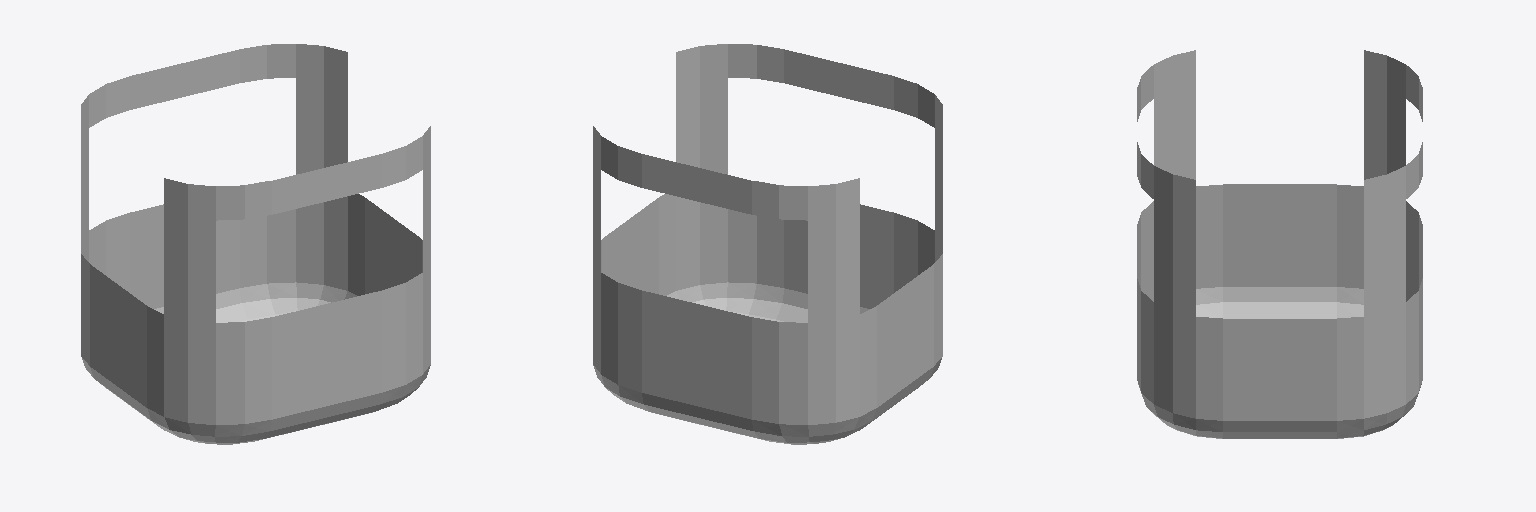
File: bag3_26.obj
The picture shows the model from 3 angles: view 1: azimuth 30°, elevation 25°; view 2: azimuth 150°, elevation 25°; view 3: azimuth 270°, elevation 25°; orthographic projection.
Visible parts, largest first — view 1: Cube-0-1.107_Cube.222; view 2: Cube-0-1.107_Cube.222; view 3: Cube-0-1.107_Cube.222.
Part boxes in pixels (x1,y1,x2,y2): Cube-0-1.107_Cube.222: (81, 44, 430, 444); Cube-0-1.107_Cube.222: (593, 44, 942, 444); Cube-0-1.107_Cube.222: (1137, 50, 1422, 438).
Size of the model in its own units: 2 by 1.96 by 1.8.